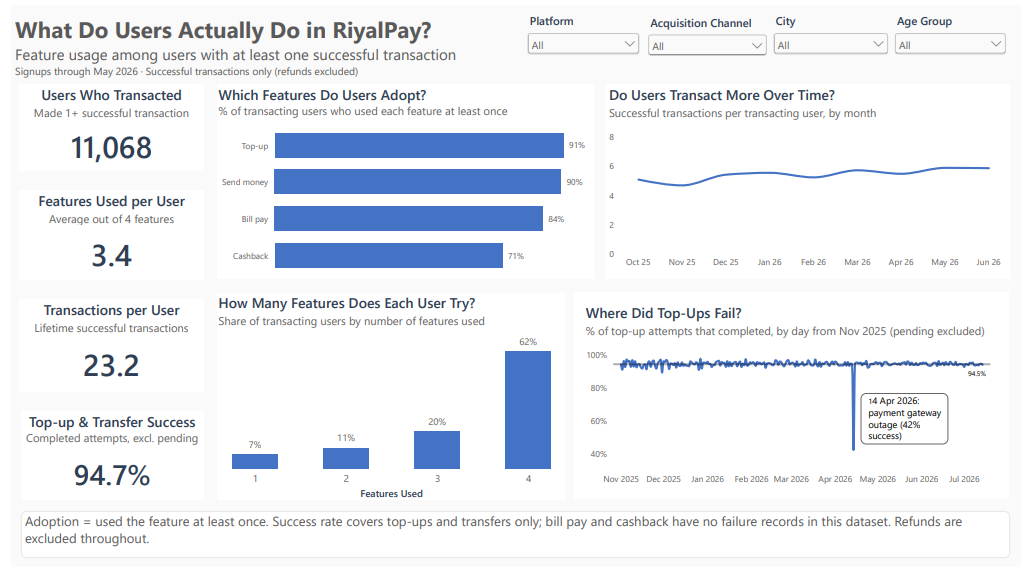

The page's visual inventory and layout, read from the dashboard file:
{"tool":"powerbi","page":{"name":"Feature Adoption","canvas":[1440,800],"ordinal":3},"visuals":[{"type":"textbox","box":[0,11.3,1433.9,100],"z":0},{"type":"cardVisual","title":"Users Who Transacted","fields":{"Data":["_measures.Transacting Users"]},"box":[11,111.8,263,122.8],"z":0},{"type":"slicer","fields":{"Values":["dim_users.platform"]},"box":[730.6,11.3,169.4,64.5],"z":1000},{"type":"cardVisual","title":"Features Used per User","fields":{"Data":["_measures.Features Used per User"]},"box":[11,263,263,127.6],"z":1000},{"type":"slicer","fields":{"Values":["dim_users.signup_channel"]},"box":[903.2,12.9,179,64.5],"z":2000},{"type":"cardVisual","title":"Transactions per User","fields":{"Data":["_measures.Transactions per User"]},"box":[11,418.9,263,130.7],"z":2000},{"type":"slicer","fields":{"Values":["dim_users.city"]},"box":[1082.3,11.3,172.6,64.5],"z":3000},{"type":"cardVisual","title":"Top-up & Transfer Success","fields":{"Data":["_measures.Success Rate (Top-ups & Transfers)"]},"box":[12.6,578,261.4,126],"z":3000},{"type":"slicer","fields":{"Values":["dim_users.age_bracket"]},"box":[1254.8,11.3,167.7,75.8],"z":4000},{"type":"clusteredBarChart","title":"Which Features Do Users Adopt?","fields":{"Category":["fact_transactions.transaction_type"],"Y":["_measures.Feature Adoption %"]},"box":[292.9,111.8,537,277.2],"z":5000},{"type":"clusteredColumnChart","title":"How Many Features Does Each User Try?","fields":{"Category":["dim_users.Features Used"],"Y":["_measures.Share of Transacting Users"]},"box":[292.9,409.4,496.1,294.5],"z":7000},{"type":"lineChart","title":"Do Users Transact More Over Time?","fields":{"Category":["dim_date.year_month"],"Y":["_measures.Transactions per User"]},"box":[847.2,111.8,576.4,277.2],"z":8000},{"type":"lineChart","title":"Where Did Top-Ups Fail?","fields":{"Category":["dim_date.date"],"Y":["_measures.Top-up Success Rate"]},"box":[803.1,409.4,620.5,294.5],"z":8750,"group":"g1"},{"type":"textbox","box":[1210.7,552.9,125.1,72.4],"z":9501,"group":"g1"},{"type":"group","id":"g1","title":"Group 2","box":[803.1,409.4,620.5,294.5],"z":9502},{"type":"textbox","box":[12.6,719.7,1411,67.7],"z":9504}]}

Visuals, with their boxes in screenshot pixels (x1, y1, x2, y2), scaled from the page's 1440x800 canvas onto the 1032x578 screenshot:
textbox: box=[0, 8, 1028, 80]
"Users Who Transacted" cardVisual: box=[8, 81, 196, 169]
slicer - dim_users.platform: box=[524, 8, 645, 55]
"Features Used per User" cardVisual: box=[8, 190, 196, 282]
slicer - dim_users.signup_channel: box=[647, 9, 776, 56]
"Transactions per User" cardVisual: box=[8, 303, 196, 397]
slicer - dim_users.city: box=[776, 8, 899, 55]
"Top-up & Transfer Success" cardVisual: box=[9, 418, 196, 509]
slicer - dim_users.age_bracket: box=[899, 8, 1019, 63]
"Which Features Do Users Adopt?" clusteredBarChart: box=[210, 81, 595, 281]
"How Many Features Does Each User Try?" clusteredColumnChart: box=[210, 296, 565, 509]
"Do Users Transact More Over Time?" lineChart: box=[607, 81, 1020, 281]
"Where Did Top-Ups Fail?" lineChart: box=[576, 296, 1020, 509]
textbox: box=[868, 399, 957, 452]
"Group 2" group: box=[576, 296, 1020, 509]
textbox: box=[9, 520, 1020, 569]
